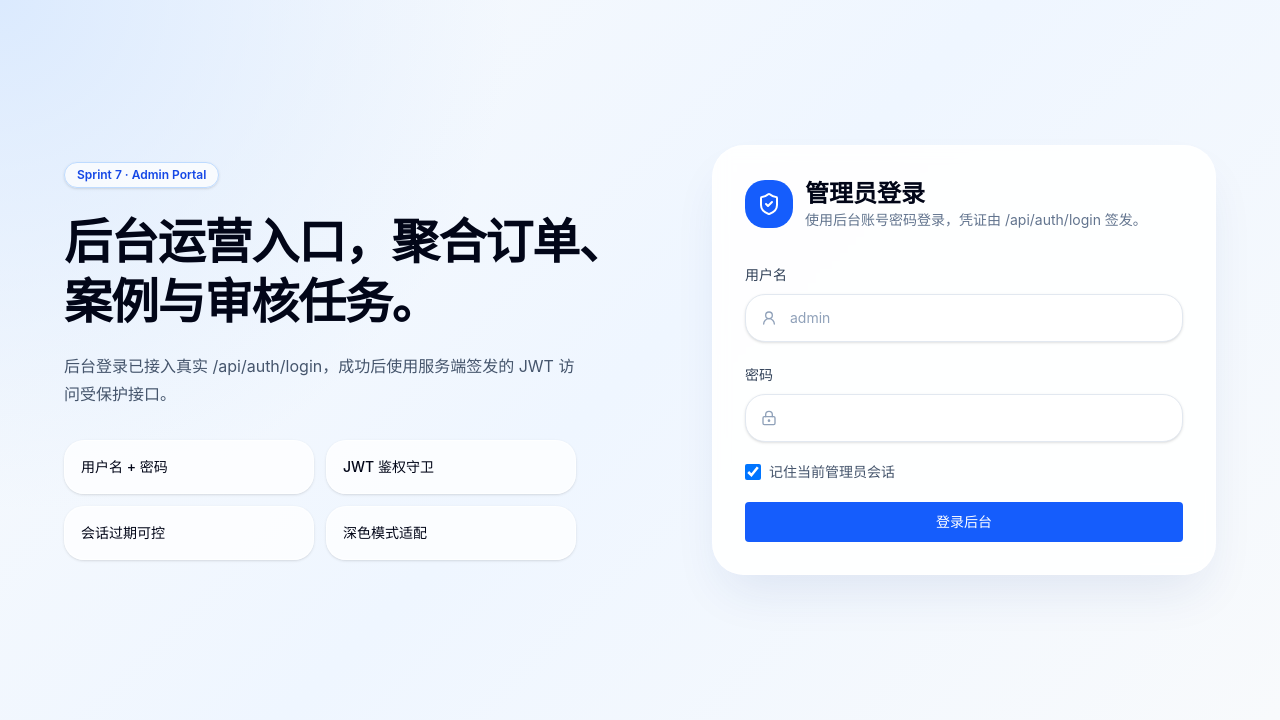
AdminLoginPage › validates username and password fields
Click the button "登录后台" at point(964, 522), box [745,502,1183,542]
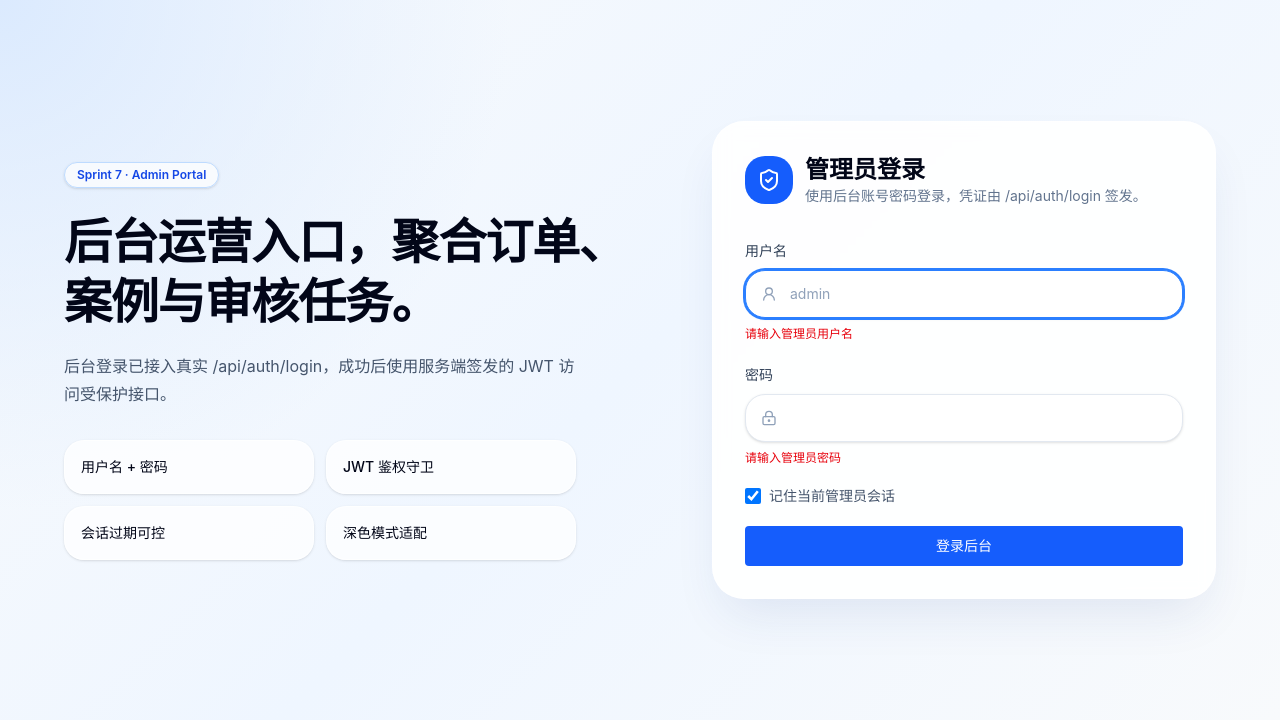
expect the text "请输入管理员用户名" is shown: met, box [745,326,853,341]
expect the text "请输入管理员密码" is shown: met, box [745,450,841,465]
